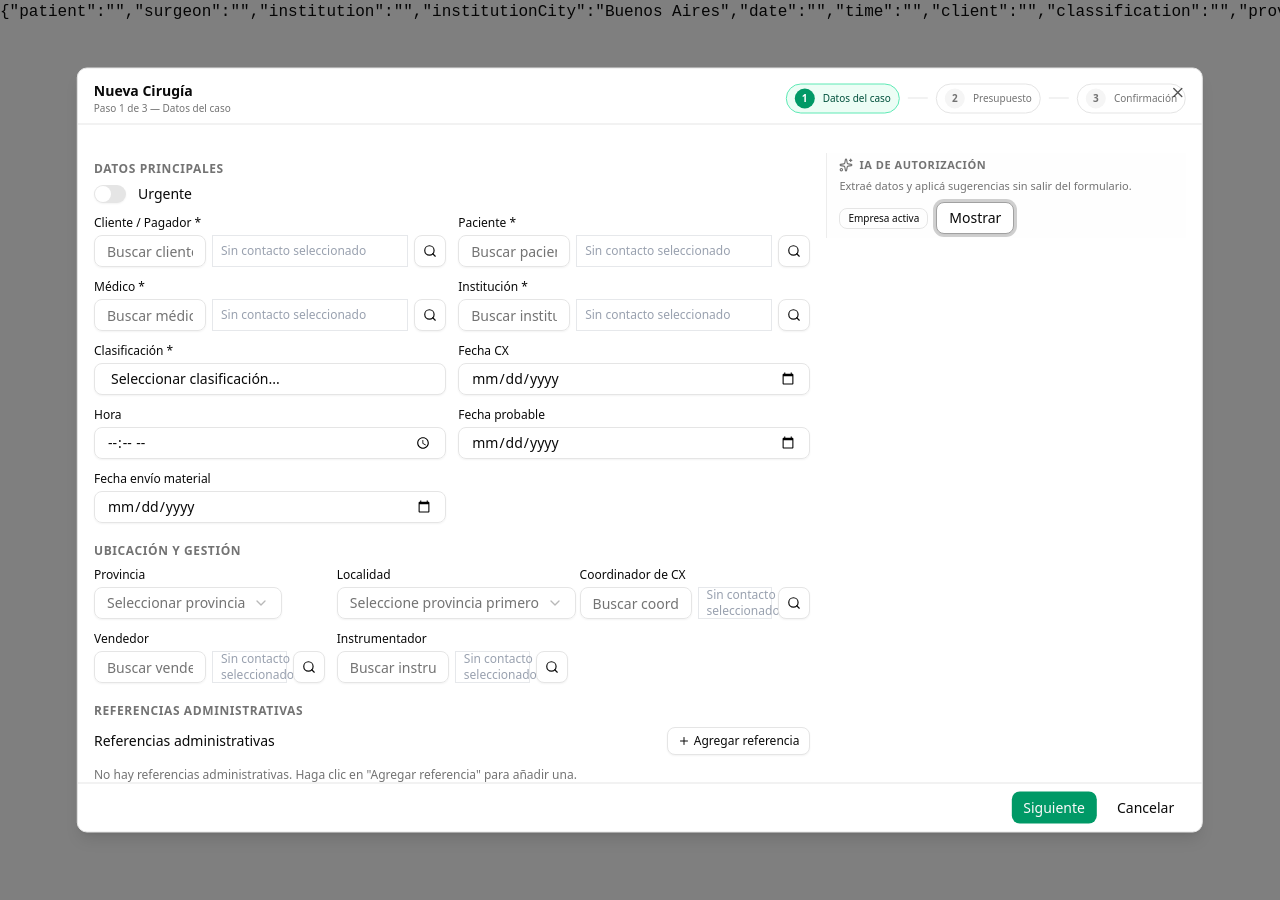
NewSurgeryDialog — NUEVA-CIRUGIA-IA-UX-P1 (Phase A, focused render) › keeps the Siguiente button enabled regardless of the missing-required count (AC-04)
This screenshot has width=1280, height=900.
Click the button with test id "wizard-next-btn" at coordinates (1054, 808), box 1011,792 -> 1097,824
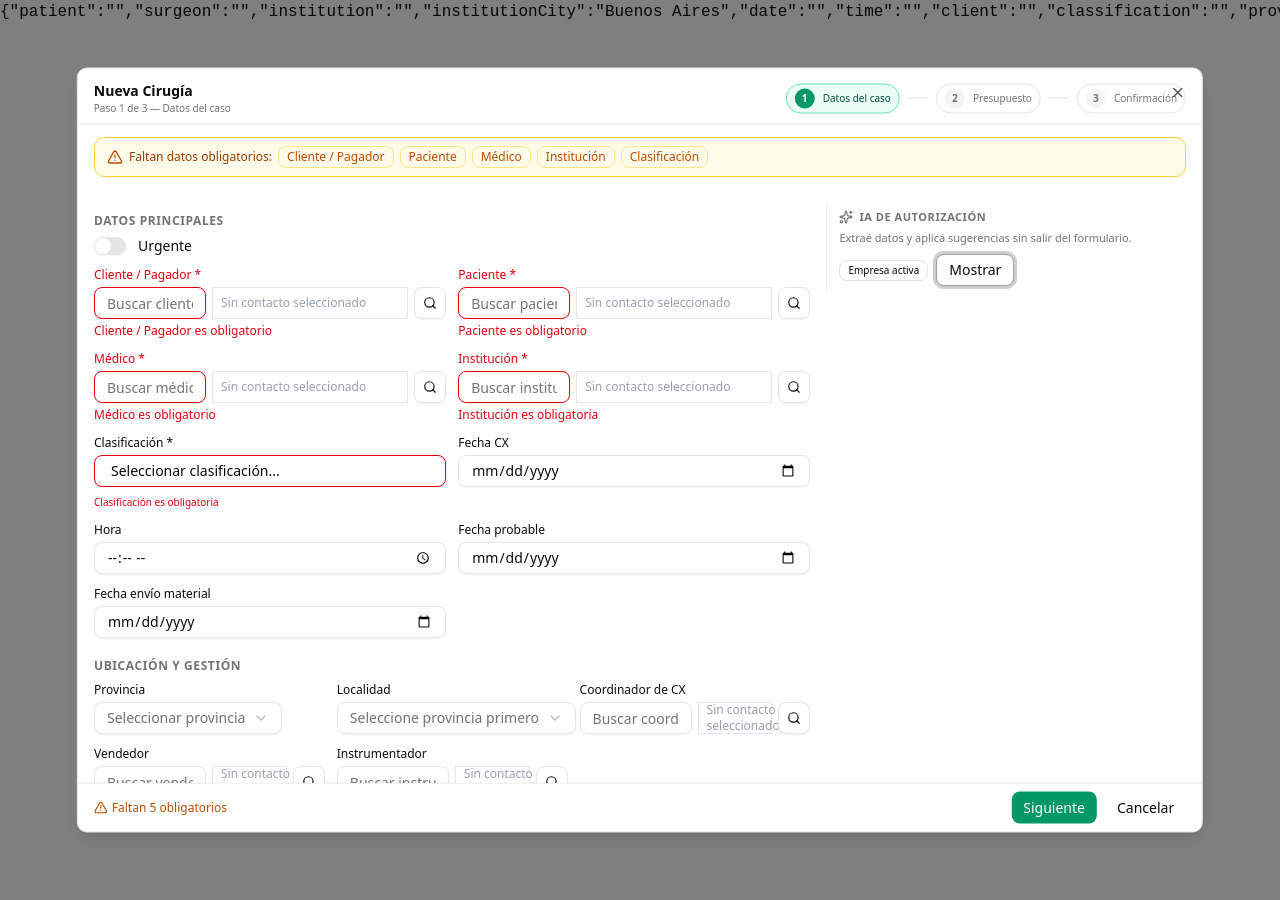
expect the text "Faltan 5 obligatorios" is shown: met, box 94,798 -> 227,816
